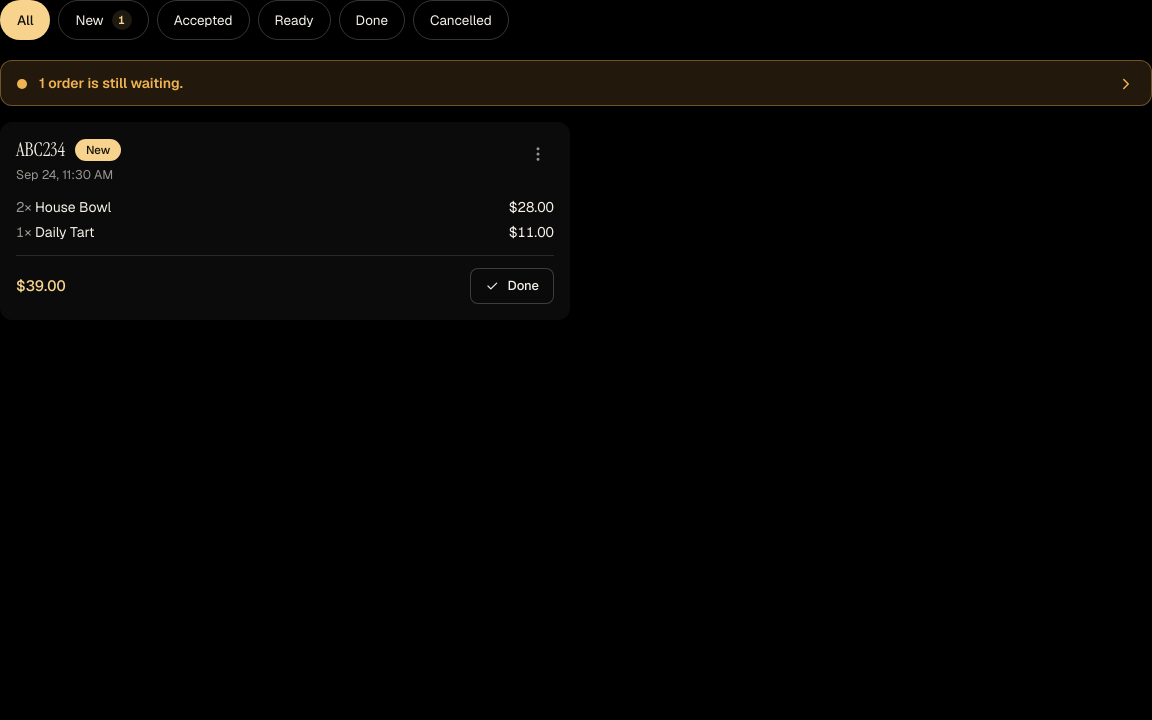
Test: OrdersPage › keeps the order when the owner backs out of cancelling
Click the button named "More for order ABC234".
click(538, 154)  # box [522, 138, 554, 170]
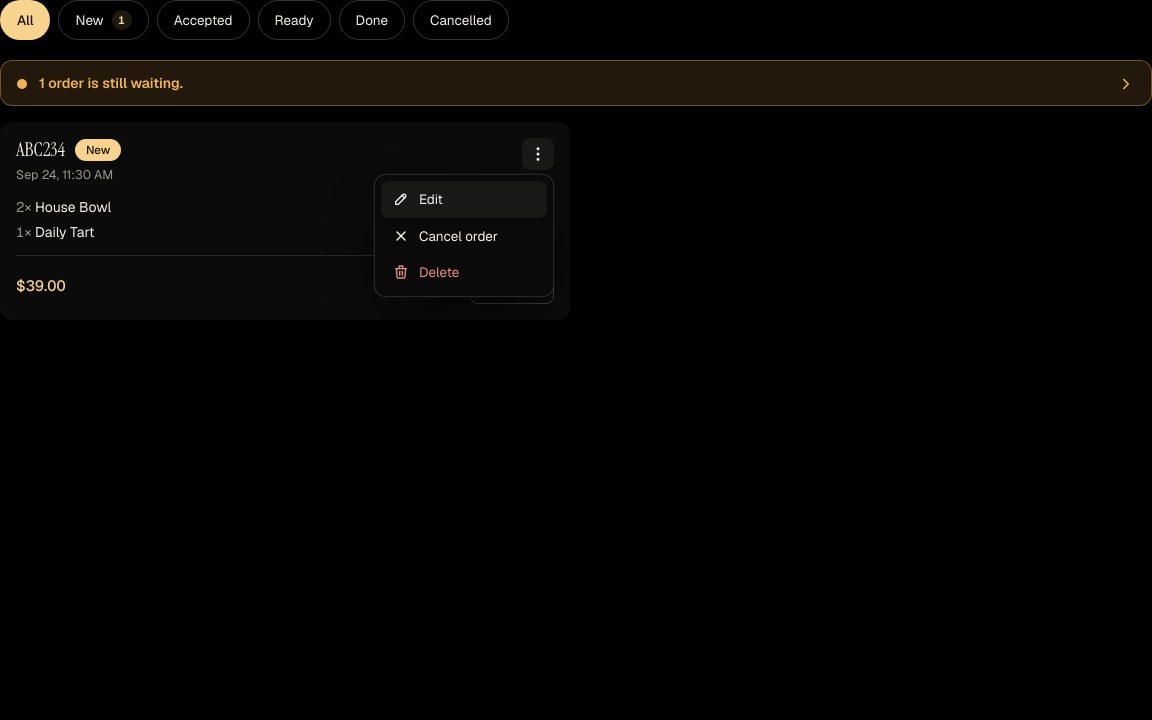
Click the menu item "Cancel order".
click(464, 236)  # box [381, 218, 547, 254]
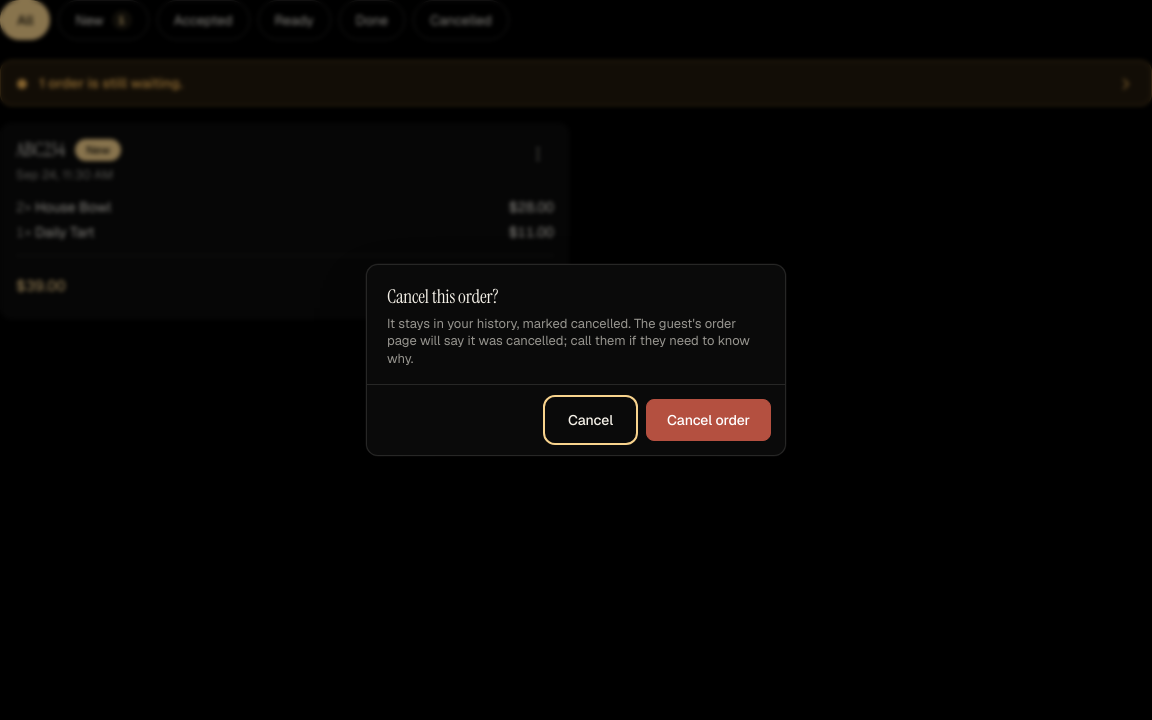
Click the button "Cancel".
click(590, 420)  # box [547, 399, 634, 441]
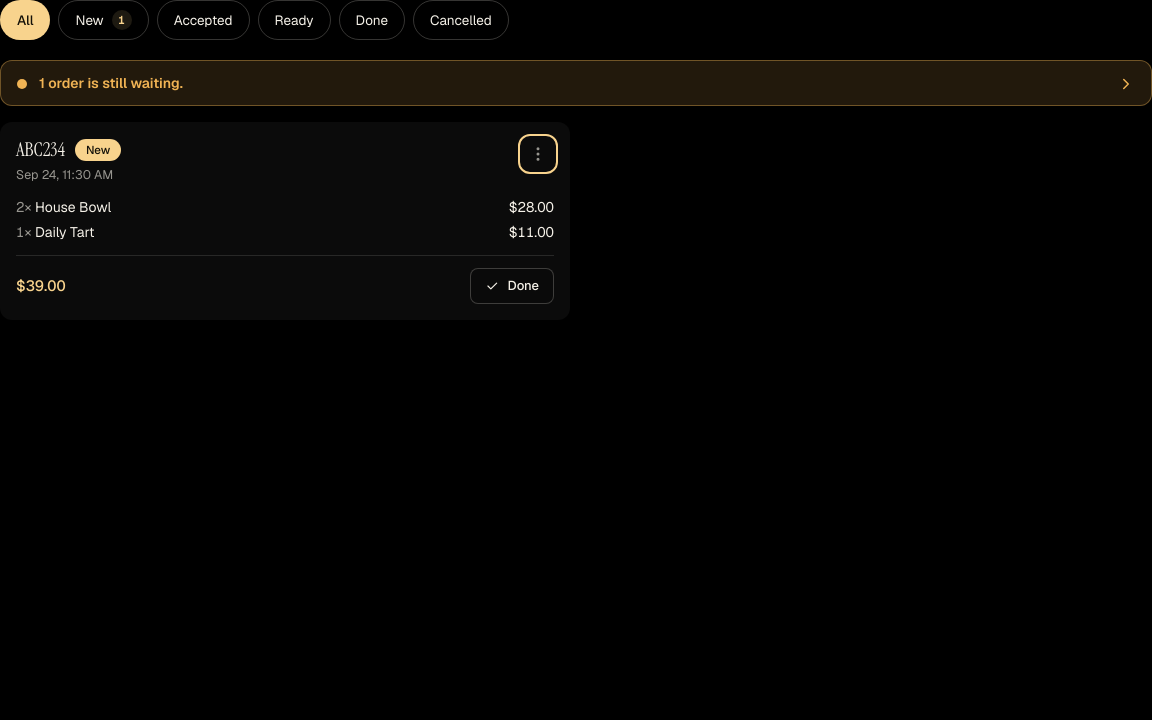
Check: the dialog is gone
